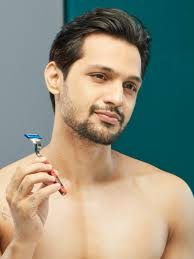b.y: (81, 106, 122, 143)
